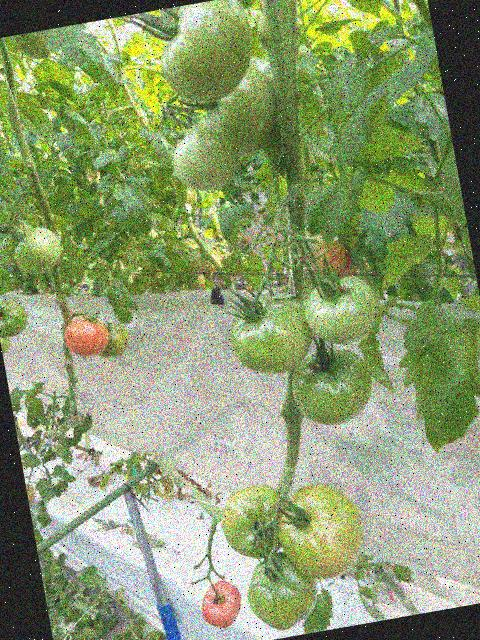b_fully_ripened: (197, 576, 246, 631)
b_green: (153, 0, 263, 109), (269, 476, 371, 587), (194, 52, 286, 161), (224, 289, 319, 381), (286, 342, 379, 431), (240, 546, 323, 635), (299, 270, 386, 350), (215, 478, 294, 565), (165, 110, 245, 195), (10, 222, 66, 278), (0, 215, 39, 266), (6, 29, 53, 64), (93, 320, 132, 360), (0, 296, 30, 339), (183, 245, 212, 277), (182, 269, 207, 292), (228, 0, 263, 12), (25, 482, 37, 504), (0, 333, 12, 354)
b_half_ripened: (61, 312, 112, 360), (304, 235, 349, 277)
